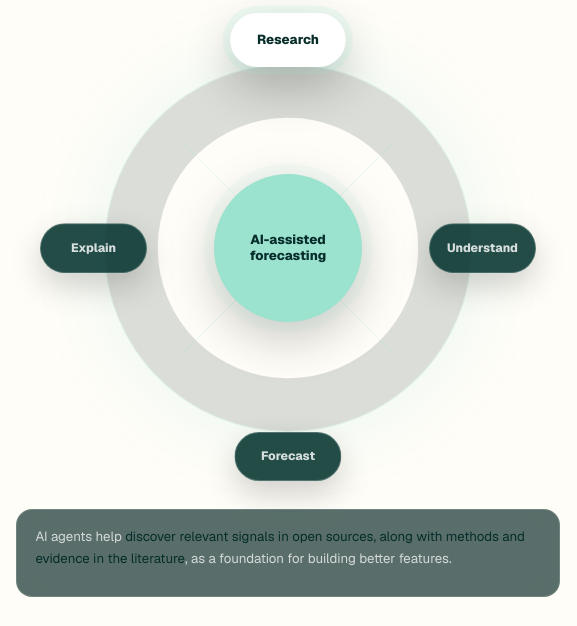
Test: story explorers › explains a selected holistic AI use case
What coordinates should you click on to do the following:
click the button "Explain"
I would click on:
 (94, 248)
Its box is [40, 223, 147, 273].
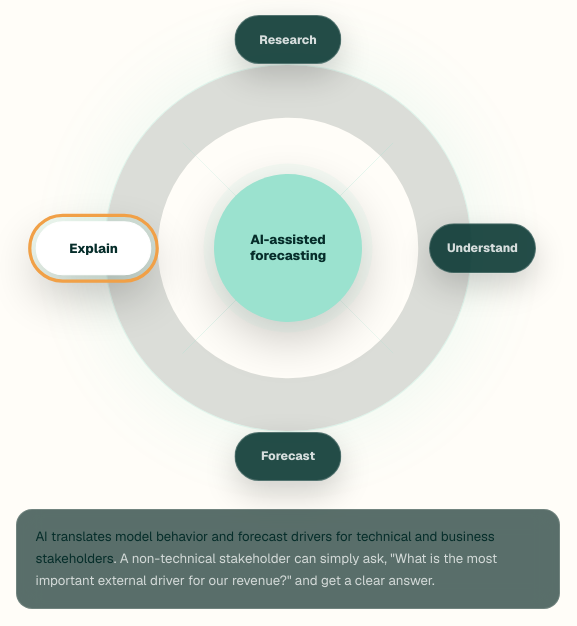
Check: the text "technical and business stakeholders" is shown, box [35, 528, 495, 567]
